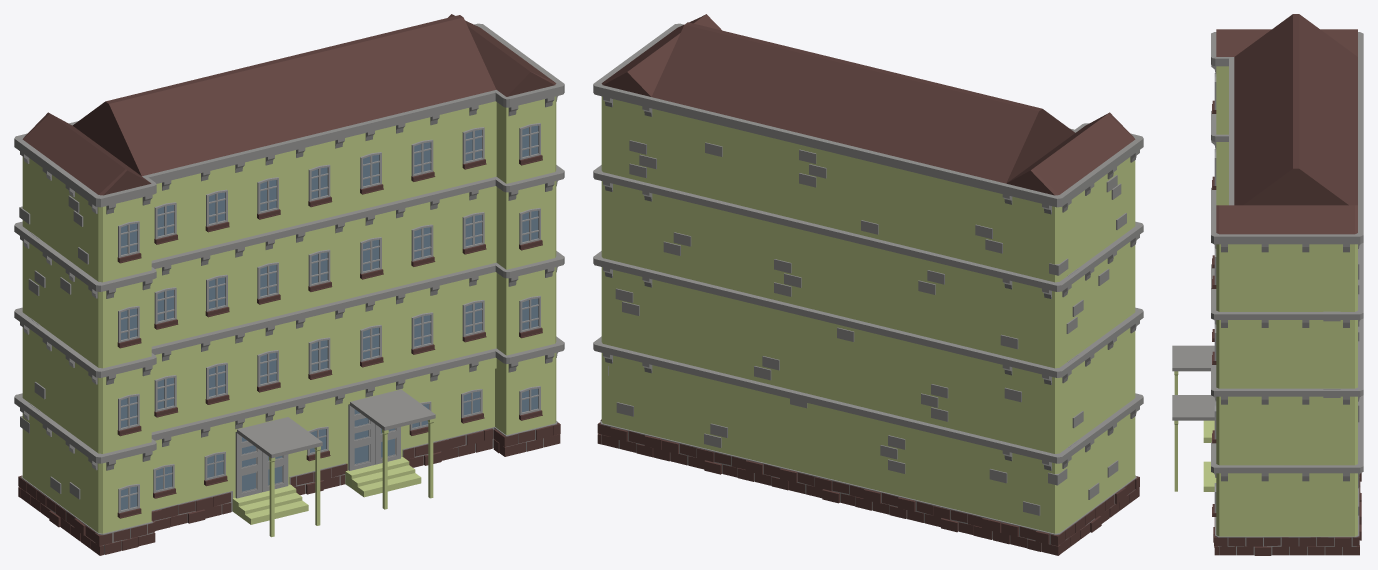
The model's file is OTEL.fbx.
3 renders of one model, left to right at view 1: azimuth 30°, elevation 25°; view 2: azimuth 150°, elevation 25°; view 3: azimuth 270°, elevation 25°, orthographic. The views are drawn at different scales.
Visible parts, largest first — view 1: 4Story_Wide_2Doors_Roof_Mat; view 2: 4Story_Wide_2Doors_Roof_Mat; view 3: 4Story_Wide_2Doors_Roof_Mat.
Boxes of the visible parts, x1,y1,x2,y2 form: 4Story_Wide_2Doors_Roof_Mat: (14,14,564,555); 4Story_Wide_2Doors_Roof_Mat: (593,14,1143,555); 4Story_Wide_2Doors_Roof_Mat: (1172,14,1363,555).
Bounding box in the file's own units: 683 × 568 × 270.
